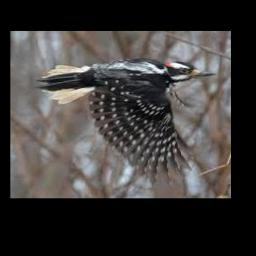Woodpecker: (36, 57, 215, 182)
